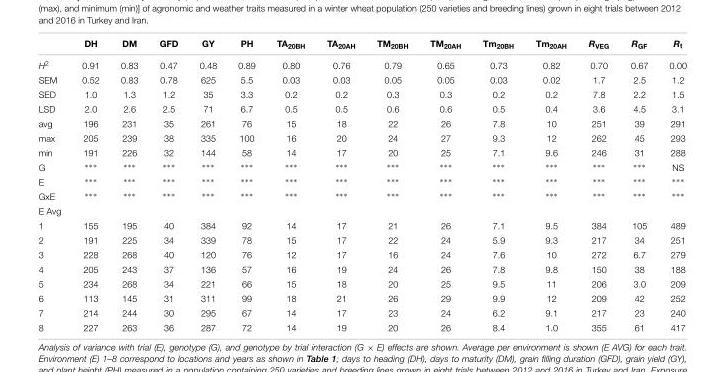table: (37, 37, 686, 332)
table column: (365, 37, 418, 332), (418, 37, 471, 332), (471, 37, 524, 332), (524, 37, 576, 332), (265, 37, 315, 332), (315, 37, 365, 332), (576, 37, 619, 332), (148, 37, 188, 332), (70, 37, 109, 332), (109, 37, 148, 332), (226, 37, 265, 332), (188, 37, 226, 332), (619, 37, 657, 332), (37, 37, 70, 332), (657, 37, 686, 332)
table column header: (37, 37, 686, 53)
table projected row header: (37, 203, 686, 217)
table row: (37, 53, 686, 71), (37, 37, 686, 53), (37, 158, 686, 174), (37, 71, 686, 86), (37, 100, 686, 115), (37, 115, 686, 130), (37, 188, 686, 203), (37, 217, 686, 232), (37, 246, 686, 261), (37, 275, 686, 290), (37, 304, 686, 319), (37, 86, 686, 100), (37, 130, 686, 144), (37, 144, 686, 158), (37, 174, 686, 188), (37, 203, 686, 217), (37, 232, 686, 246), (37, 261, 686, 275), (37, 290, 686, 304), (37, 319, 686, 332)
